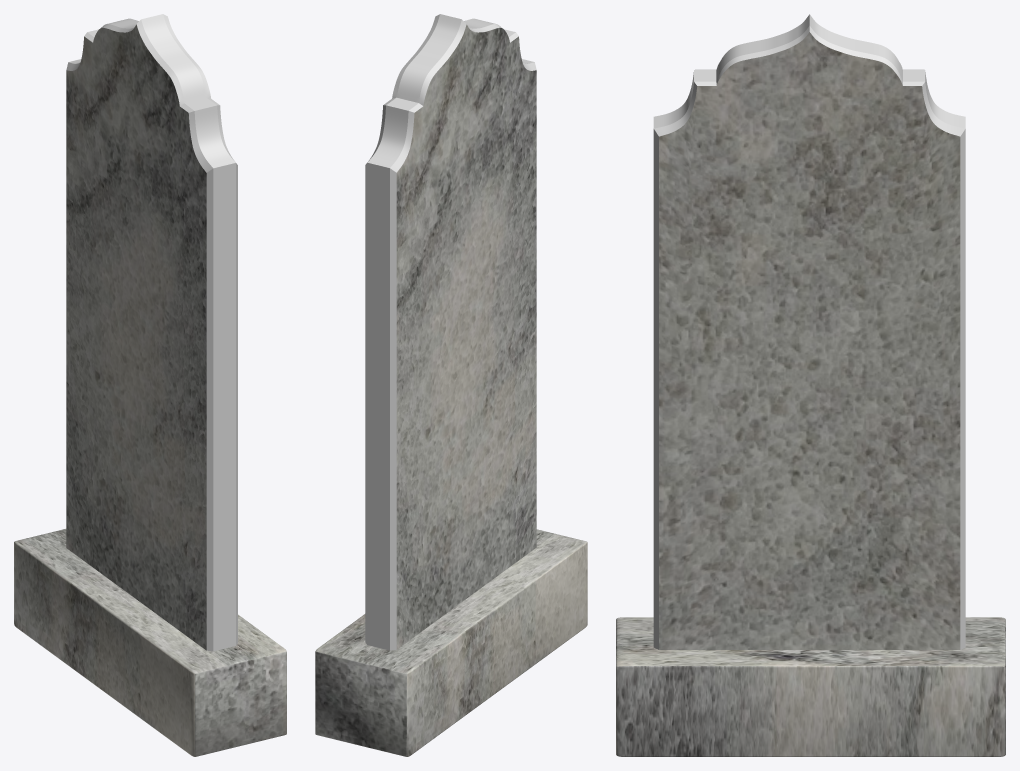
File: Памятник Полевской [marble_u_u] (90).glb
The picture shows the model from 3 angles, left to right: view 1: azimuth 30°, elevation 25°; view 2: azimuth 150°, elevation 25°; view 3: azimuth 270°, elevation 25°; orthographic projection. The views are drawn at different scales.
Visible parts, largest first — view 1: Cube.057; view 2: Cube.057; view 3: Cube.057.
Boxes of the visible parts, bbox=[...] form: Cube.057: bbox=[14, 14, 286, 756]; Cube.057: bbox=[315, 14, 587, 756]; Cube.057: bbox=[616, 14, 1005, 756].
Bounding box in the file's own units: 0.15 × 1.01 × 0.5.
Materials: 2 (1 with a texture image).
